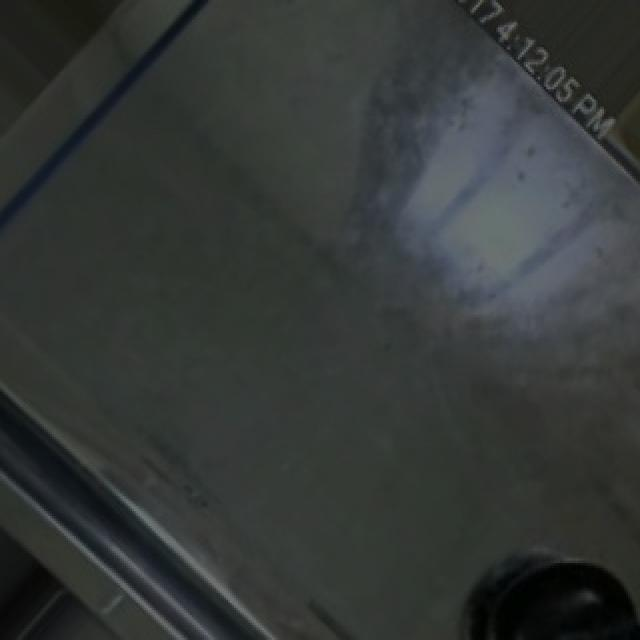Fruit: (480, 548, 640, 640)
